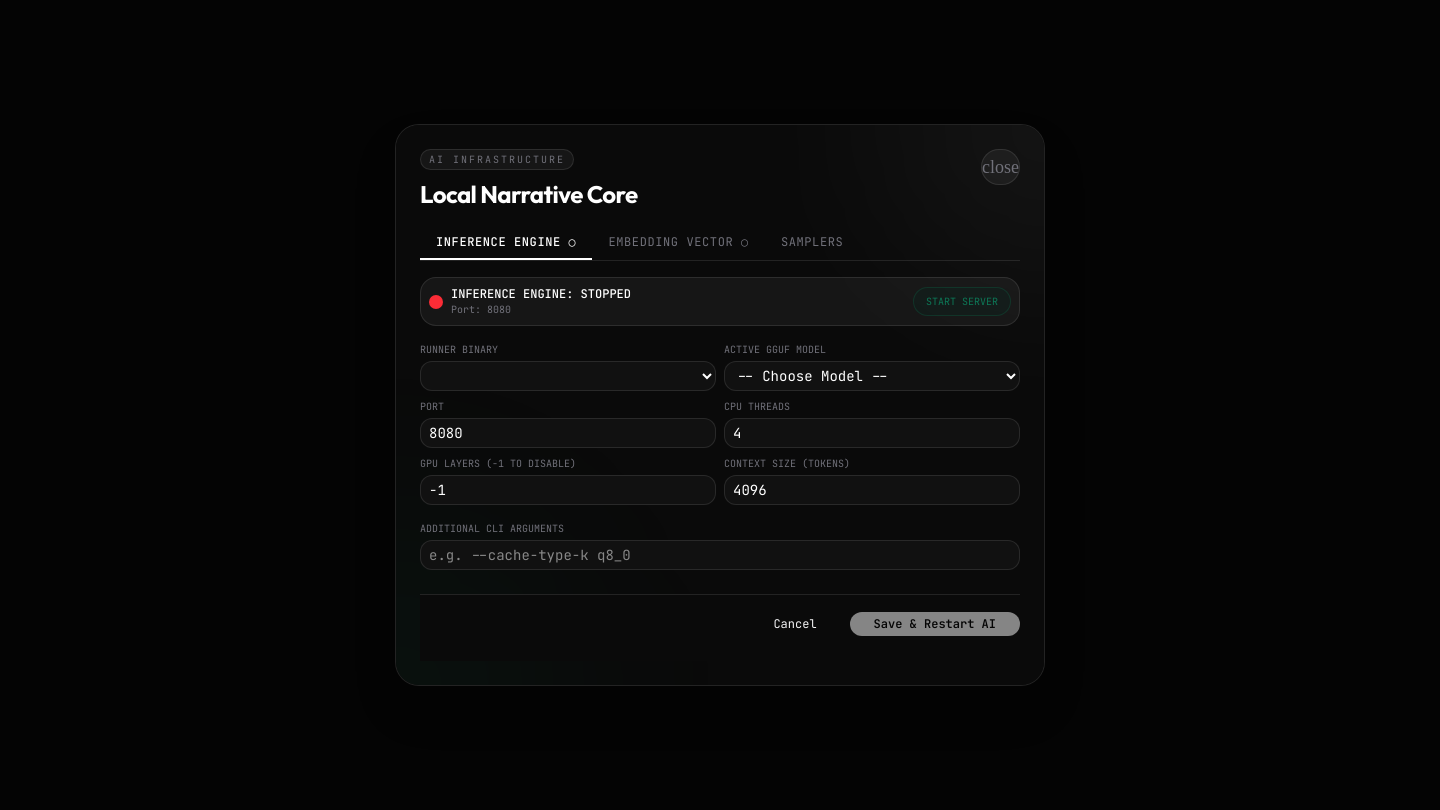
Test: SettingsModal › GPU layers regression (clearing/invalid input resets to -1) › resets the inference GPU layers field instead of leaking NaN
Check: the text "Inference Engine: STOPPED" is shown, box 451,286 -> 631,302
Replace the text in the number field labelled "GPU Layers (-1 to disable)" with "12" at (568, 490), box 420,475 -> 716,505
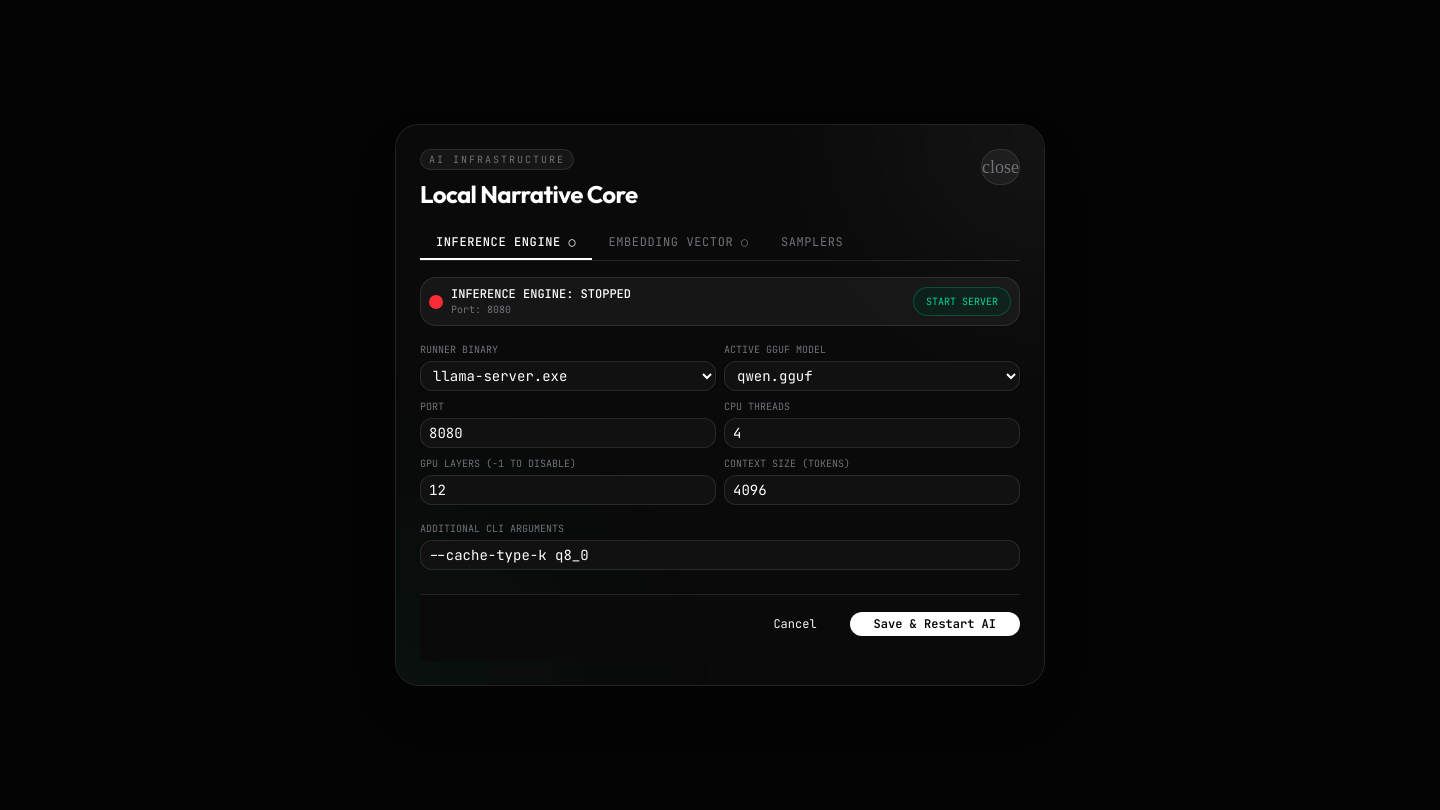
Clear the number field labelled "GPU Layers (-1 to disable)" at (568, 490), box 420,475 -> 716,505
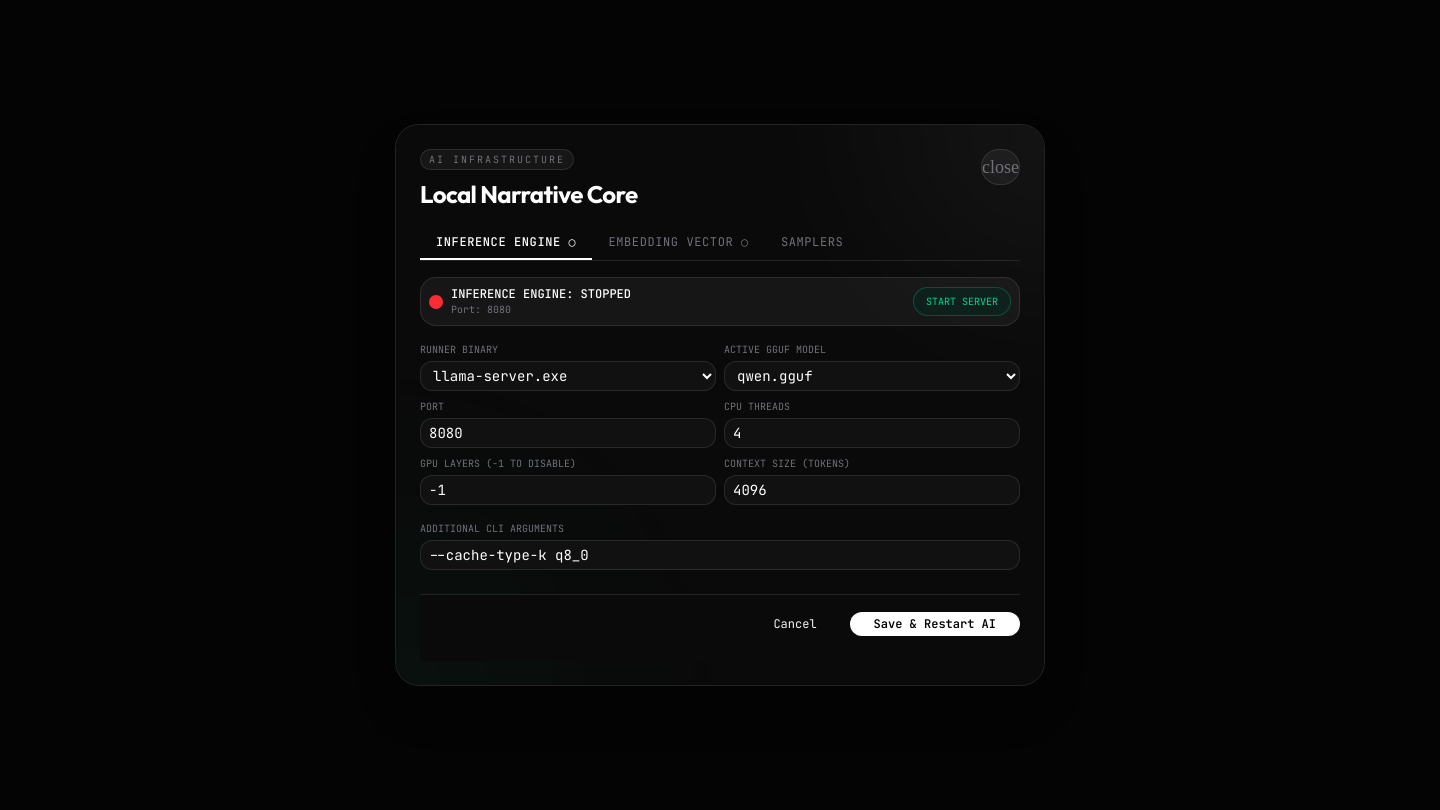
Check: the number field labelled "GPU Layers (-1 to disable)" holds "-1"
Replace the text in the number field labelled "GPU Layers (-1 to disable)" with "20" at (568, 490), box 420,475 -> 716,505
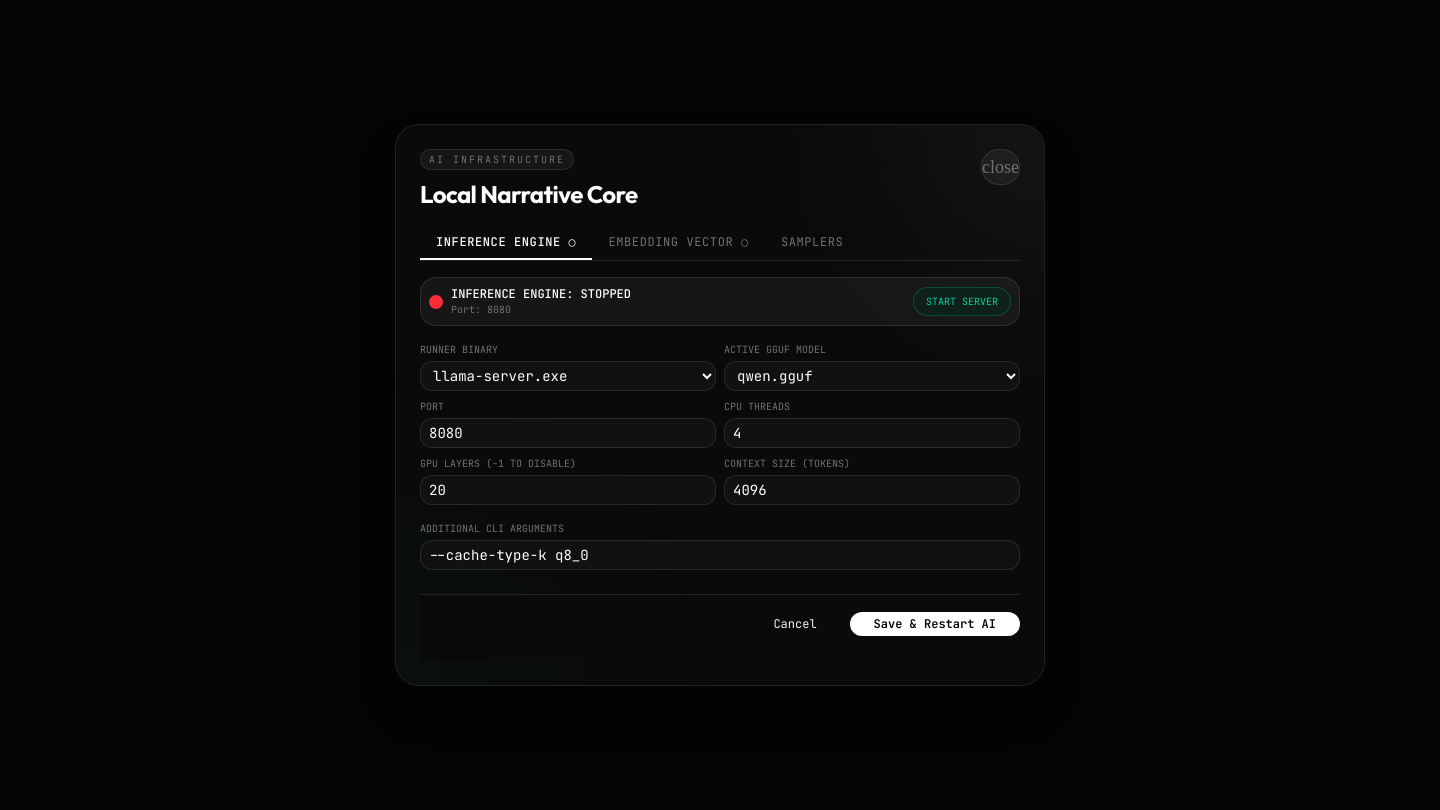
Replace the text in the number field labelled "GPU Layers (-1 to disable)" with "not-a-number" at (568, 490), box 420,475 -> 716,505
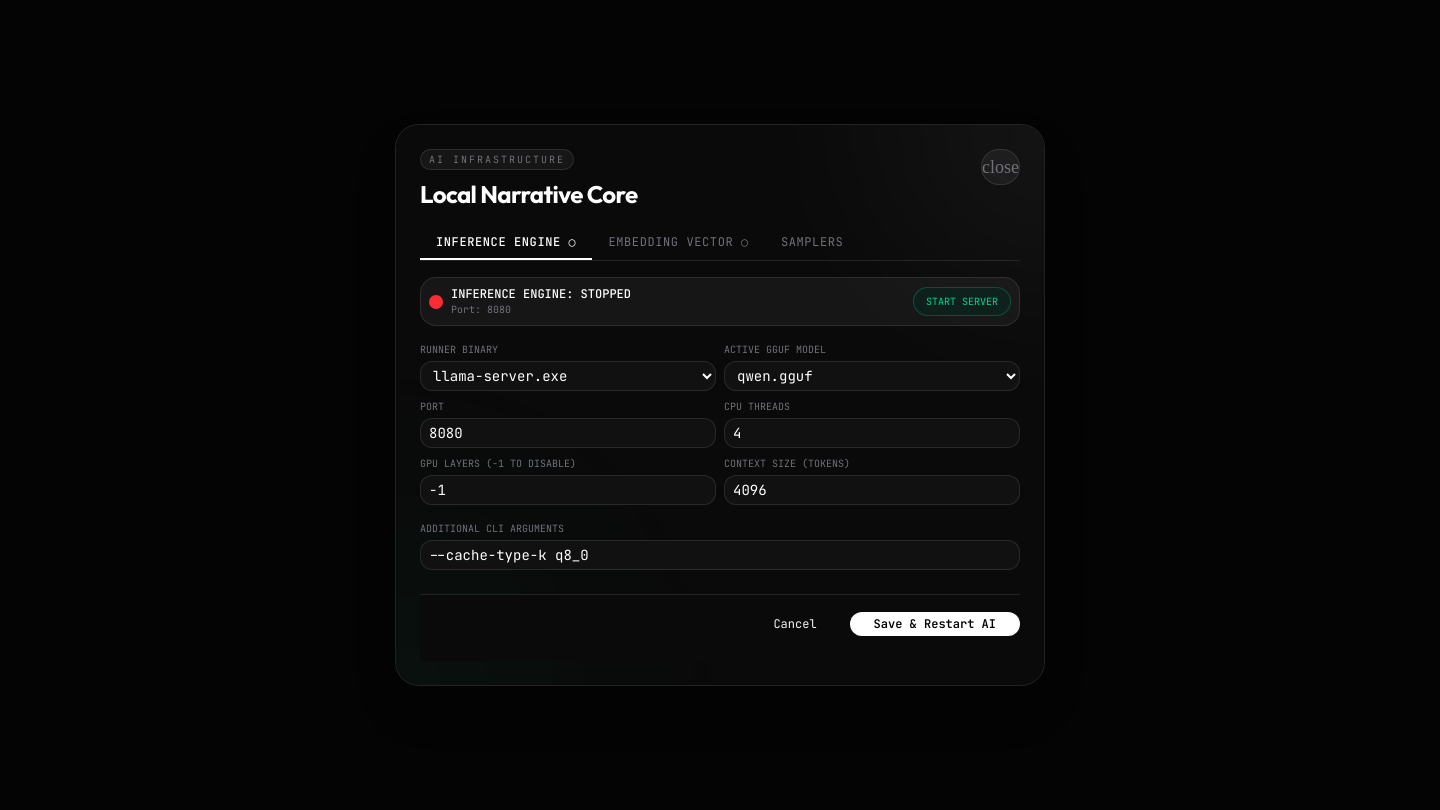
Check: the number field labelled "GPU Layers (-1 to disable)" holds "-1", box 420,475 -> 716,505
